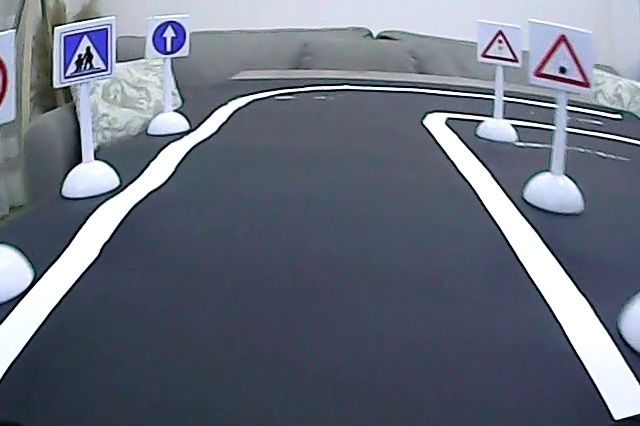green light: (529, 29, 595, 94)
red light: (476, 25, 523, 67)
school crossing: (56, 25, 114, 84)
